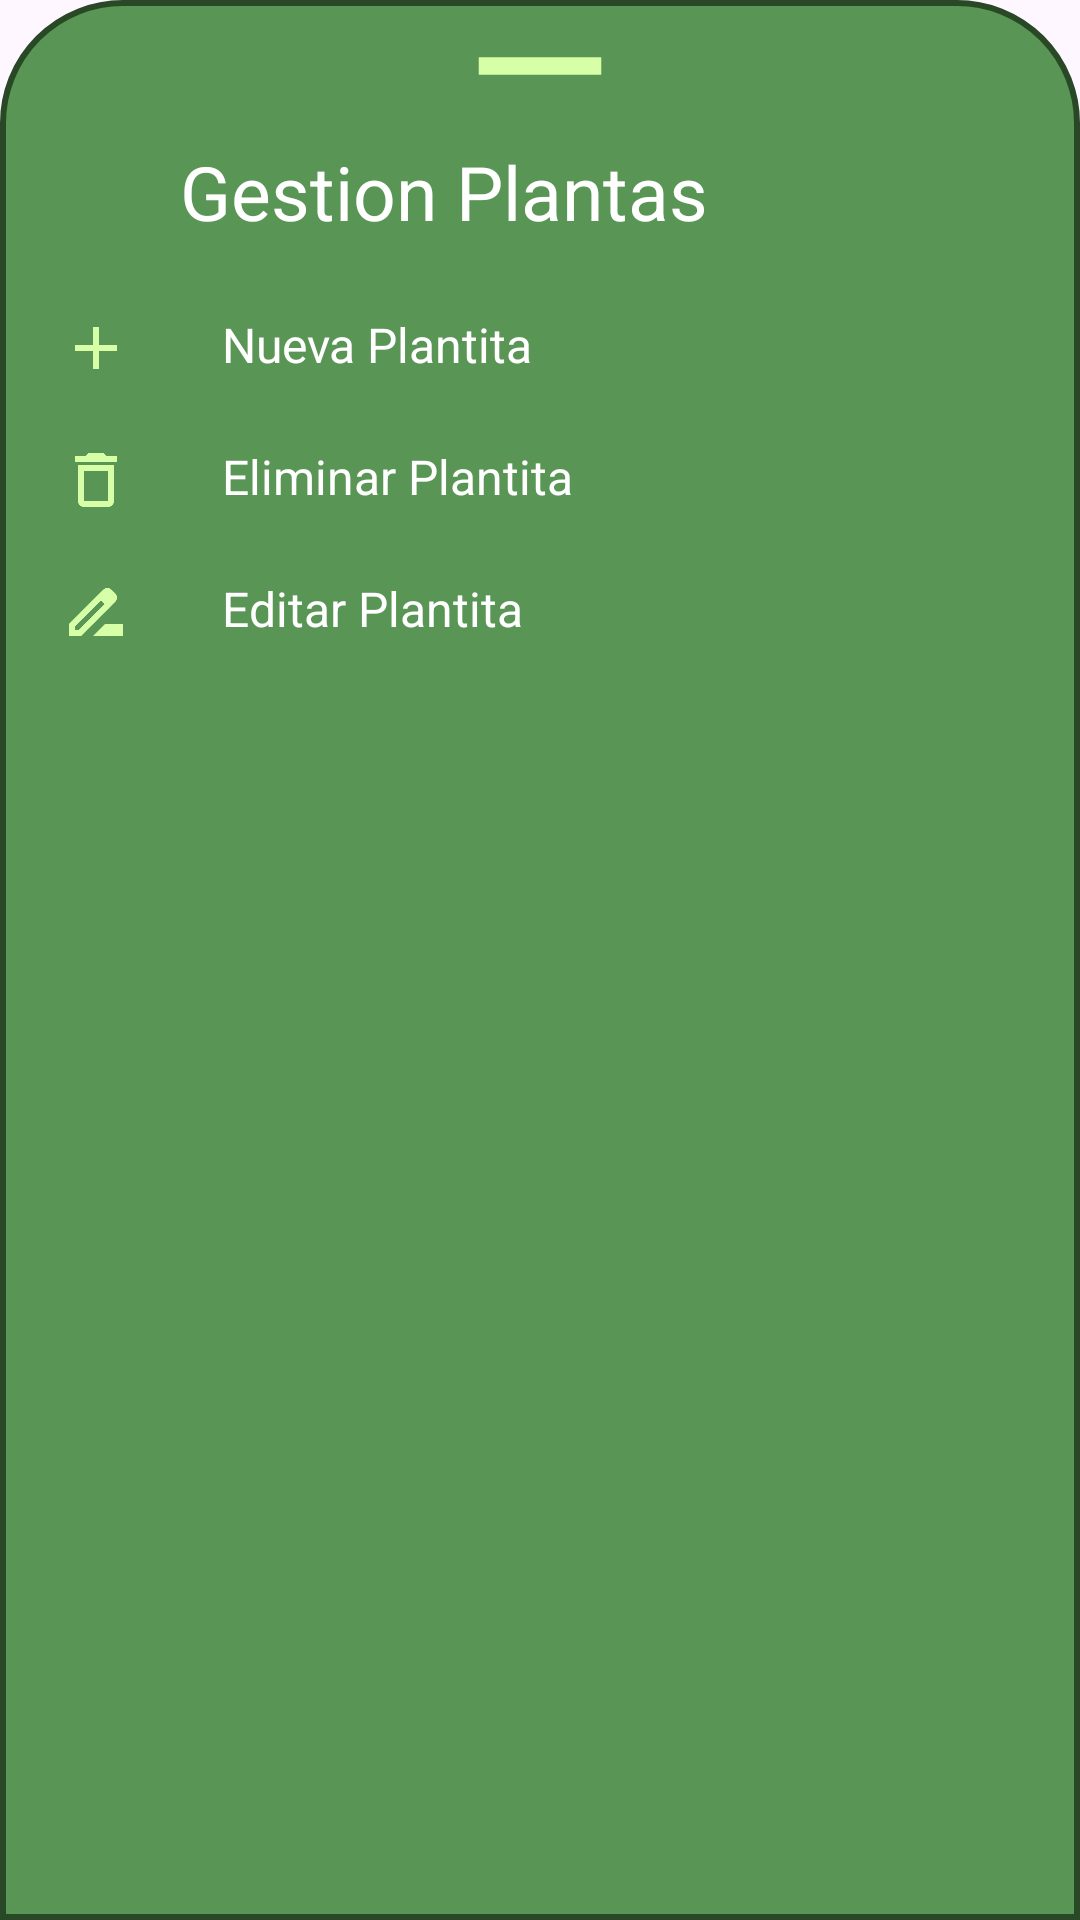

Named icons in this screenshot (1080x1920) and their bounding boxes, (x1, y1, x2, y2):
add: (75, 327, 117, 369)
delete: (75, 453, 117, 507)
drive file rename: (69, 588, 123, 636)
